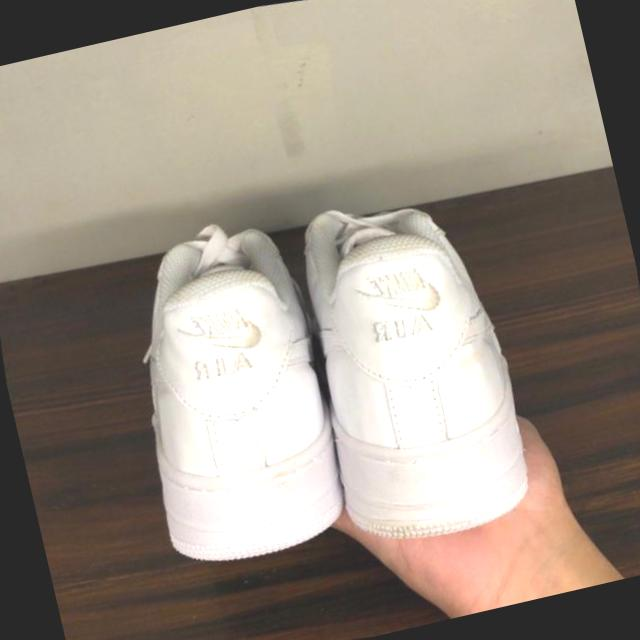nike_fake_airforce: (260, 176, 562, 568), (92, 203, 379, 588)
